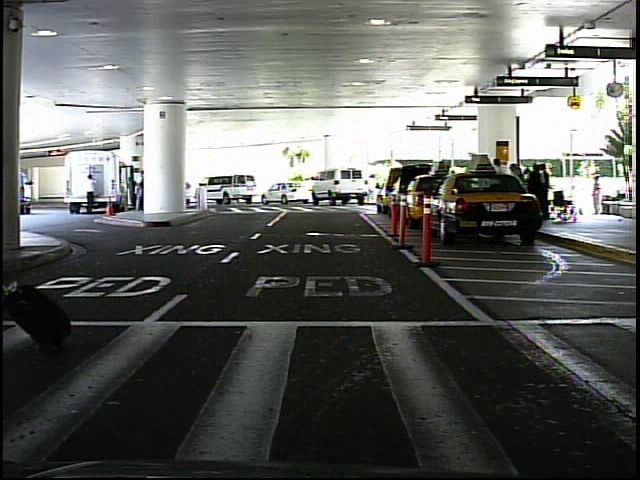person: (588, 172, 607, 218), (83, 172, 101, 216), (367, 170, 379, 202)
